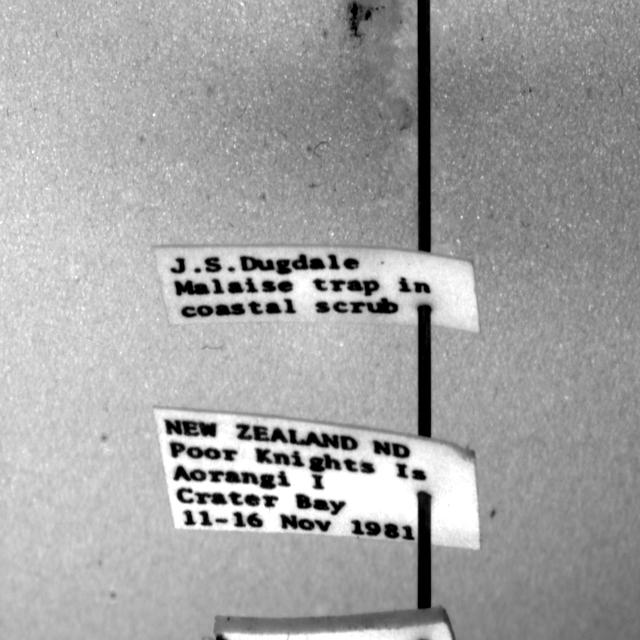typed_label: (154, 407, 480, 549), (155, 246, 479, 332)
